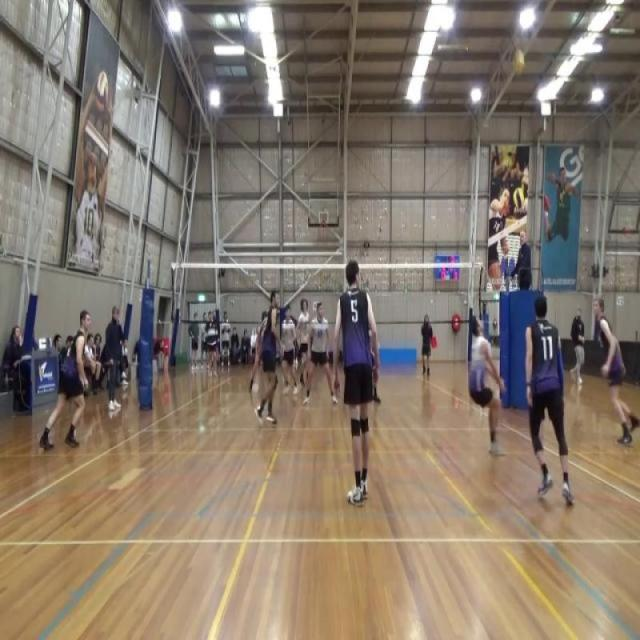volleyball: (96, 72, 108, 115), (509, 51, 526, 77), (513, 186, 524, 209)
